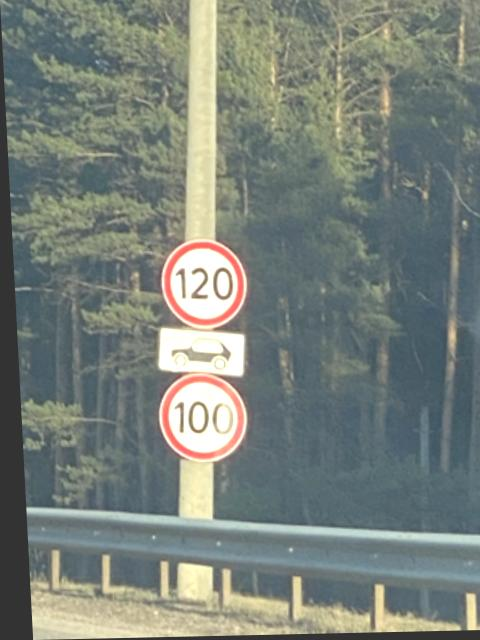limit100: (147, 371, 248, 465)
limit120: (151, 234, 251, 335)
